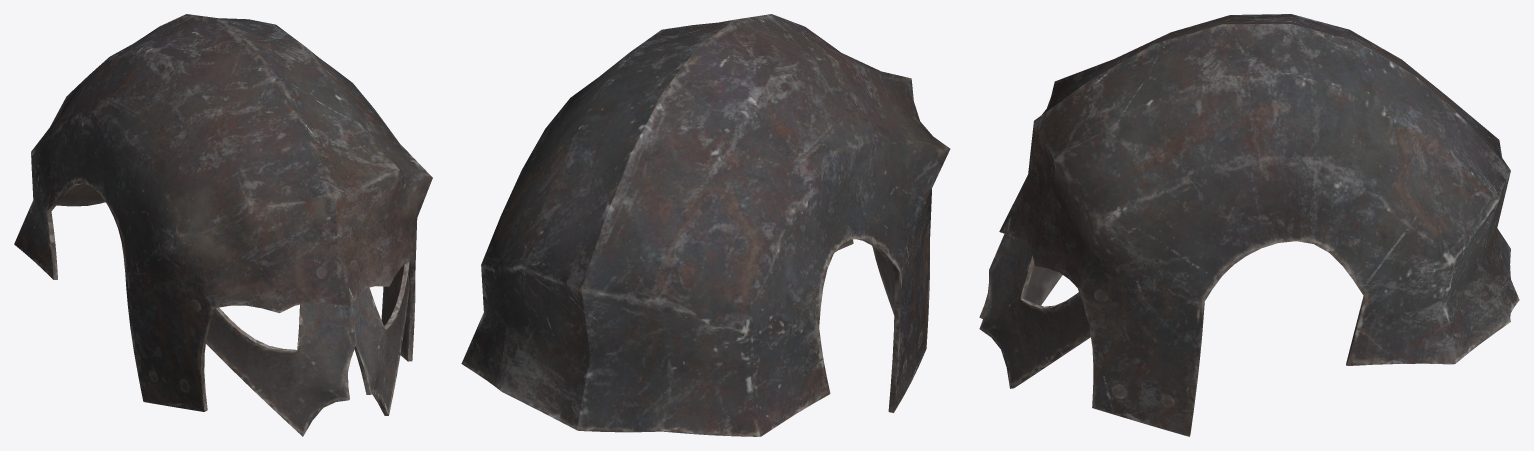
Rendered from sk_dg_uruk_helmet_med_e.fbx.
3 views of the same model, side by side, from view 1: azimuth 30°, elevation 25°; view 2: azimuth 150°, elevation 25°; view 3: azimuth 270°, elevation 25° (orthographic). The views are drawn at different scales.
Parts seen in each view (by area): view 1: sk_dg_uruk_helmet_med_e; view 2: sk_dg_uruk_helmet_med_e; view 3: sk_dg_uruk_helmet_med_e.
Part boxes in pixels (x1,y1,x2,y2): sk_dg_uruk_helmet_med_e: [14, 14, 432, 436]; sk_dg_uruk_helmet_med_e: [461, 14, 950, 436]; sk_dg_uruk_helmet_med_e: [979, 14, 1519, 436].
Bounding box in the file's own units: 0.201 × 0.3113 × 0.2217.
Materials: 1 (1 with a texture image).
